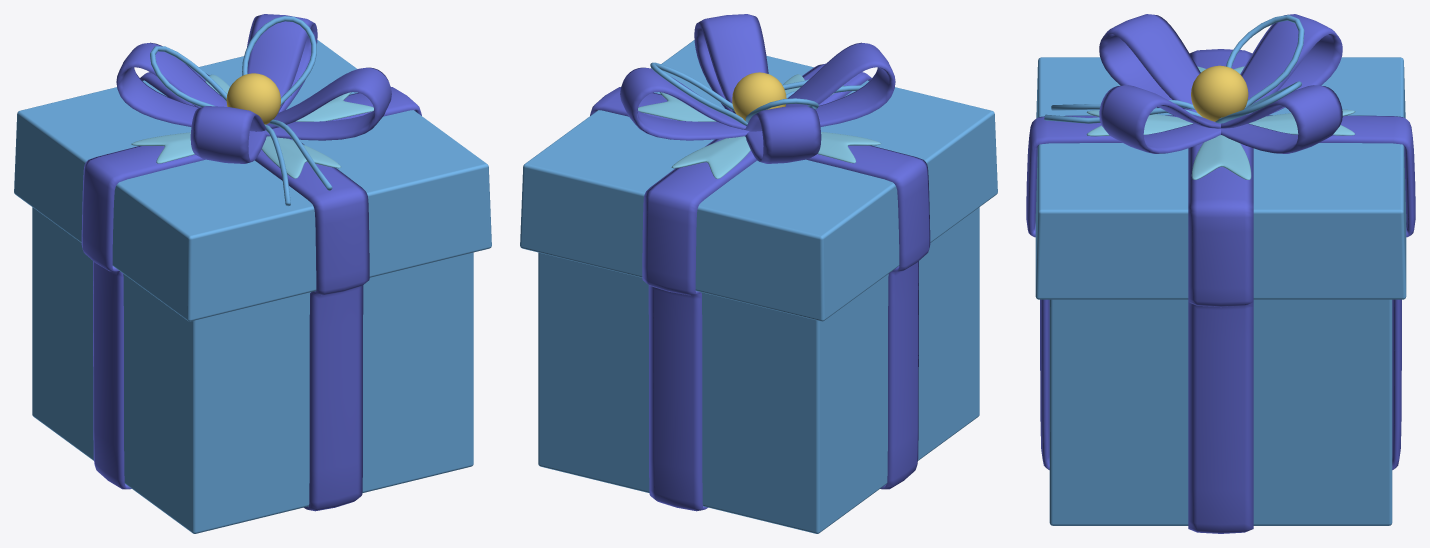
Rendered from SpeedGiftBox.fbx.
3 renders of one model, left to right at view 1: azimuth 30°, elevation 25°; view 2: azimuth 150°, elevation 25°; view 3: azimuth 270°, elevation 25°, orthographic. The views are drawn at different scales.
Visible parts, largest first — view 1: Giftbox01; view 2: Giftbox01; view 3: Giftbox01.
Part boxes in pixels (left/top/right/bottom): Giftbox01: left=14, top=14, right=491, bottom=533; Giftbox01: left=520, top=14, right=997, bottom=533; Giftbox01: left=1026, top=14, right=1415, bottom=533.
Bounding box in the file's own units: 227 × 266 × 227.
